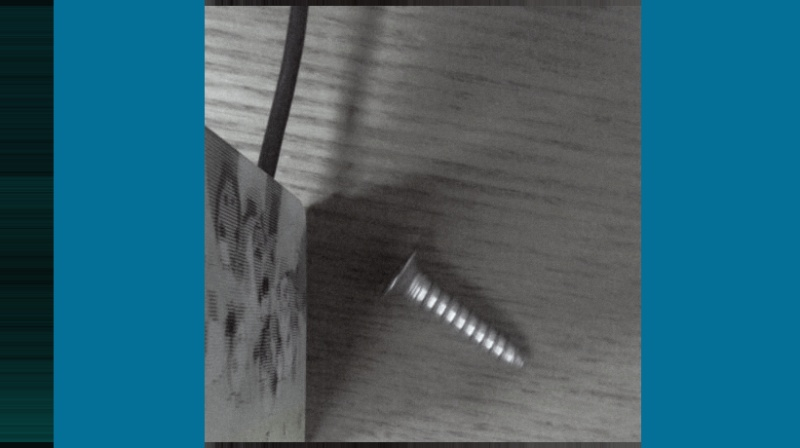S001: (375, 245, 530, 374)
